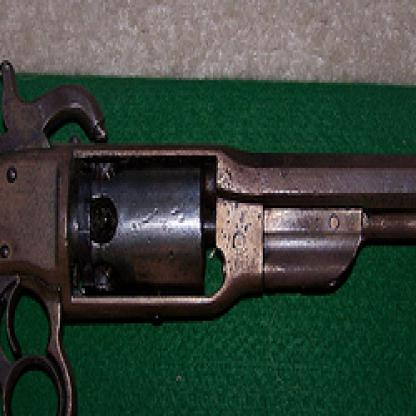gun: (0, 40, 415, 414)
